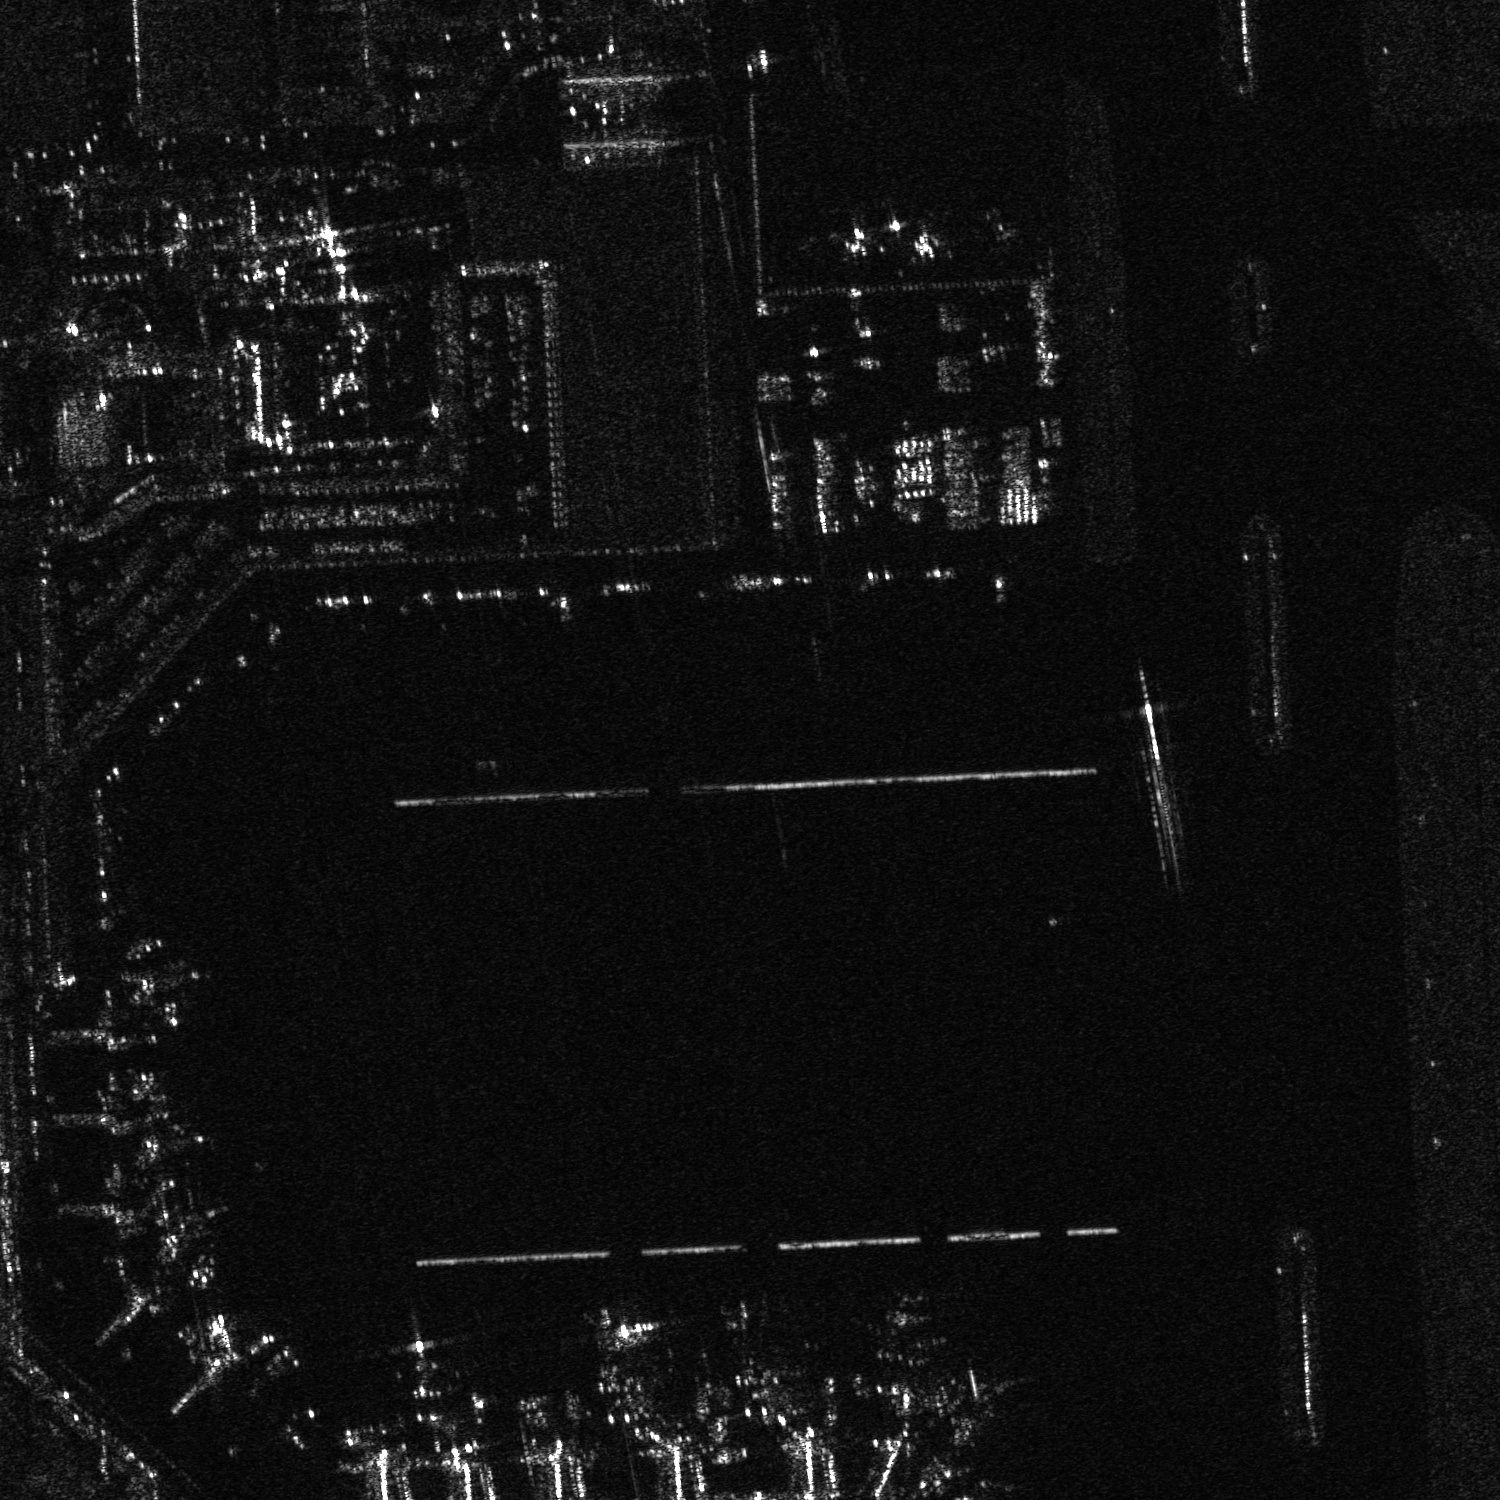A220: (401, 1326, 470, 1404)
A320/321: (854, 1288, 955, 1370), (718, 1295, 780, 1386), (582, 1310, 637, 1400)
ARJ21: (827, 218, 878, 265)
other: (896, 214, 949, 264)
